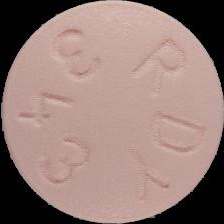55111-343: (0, 0, 224, 224)
